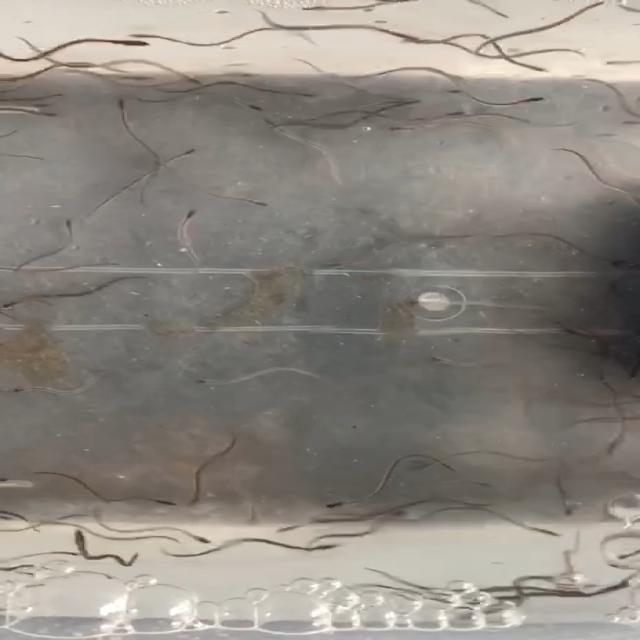active_glass_eel: (395, 26, 454, 61), (100, 33, 167, 61), (24, 108, 85, 138), (229, 184, 284, 216), (370, 113, 427, 141), (262, 82, 326, 105), (145, 196, 205, 219), (539, 143, 591, 168), (414, 351, 474, 370), (221, 95, 272, 116), (103, 93, 146, 116), (161, 142, 204, 163), (509, 62, 554, 82), (54, 213, 93, 236), (191, 371, 225, 393), (0, 296, 34, 317), (4, 382, 44, 399), (67, 526, 95, 550), (149, 496, 185, 514), (270, 517, 304, 536), (126, 27, 166, 43), (526, 528, 568, 543), (548, 497, 578, 517), (30, 92, 59, 110), (186, 530, 218, 546), (314, 495, 350, 509), (302, 546, 342, 558), (178, 75, 214, 88), (574, 74, 606, 88), (132, 73, 158, 89)
